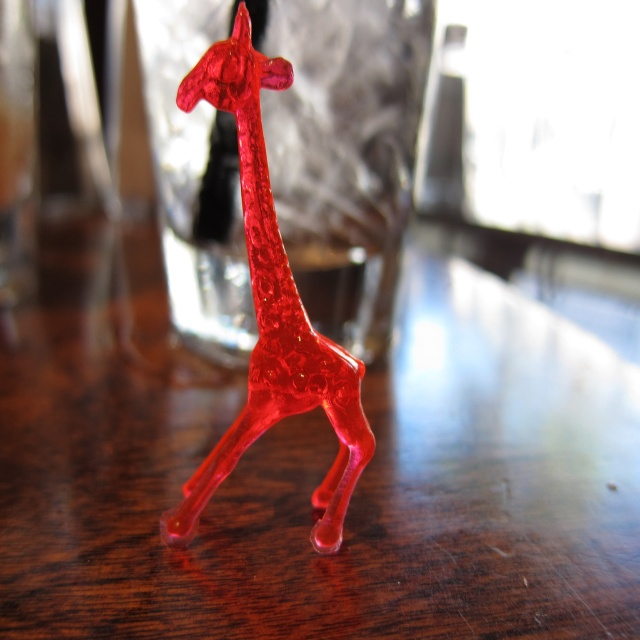Giraffe: (172, 18, 387, 542)
